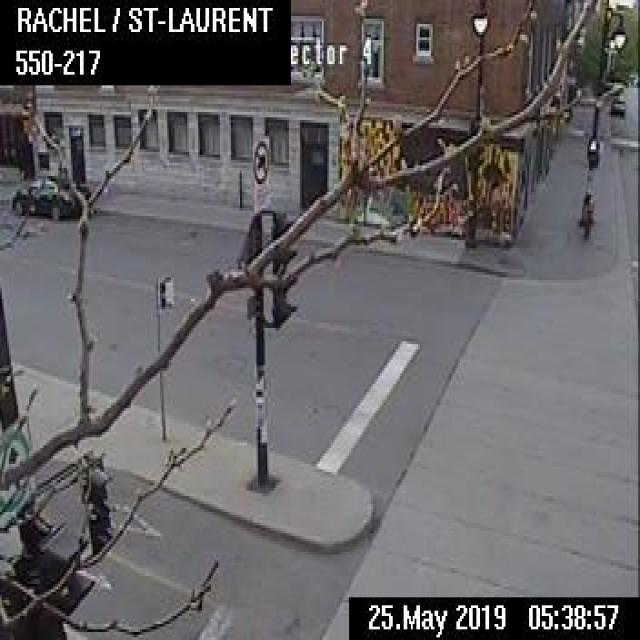vehicle: (7, 170, 89, 218), (606, 90, 628, 114)
